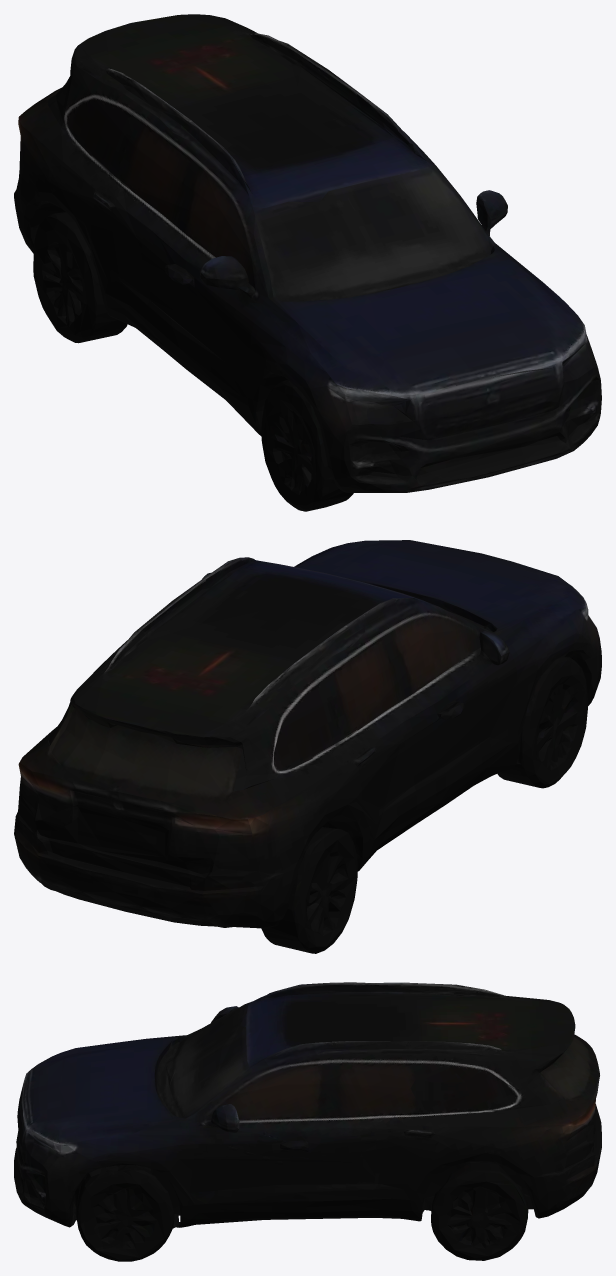
Rendered from car_suv_black.glb.
3 views of the same model, one above another, from view 1: azimuth 30°, elevation 25°; view 2: azimuth 150°, elevation 25°; view 3: azimuth 270°, elevation 25° (orthographic). The views are drawn at different scales.
Parts seen in each view (by area): view 1: geometry_0; view 2: geometry_0; view 3: geometry_0.
Part boxes in pixels (x1,y1,x2,y2): geometry_0: [14, 14, 601, 511]; geometry_0: [14, 540, 601, 953]; geometry_0: [14, 982, 601, 1261].
Size of the model in its own units: 0.461 by 0.376 by 0.9964.
1 material, 1 textured.
